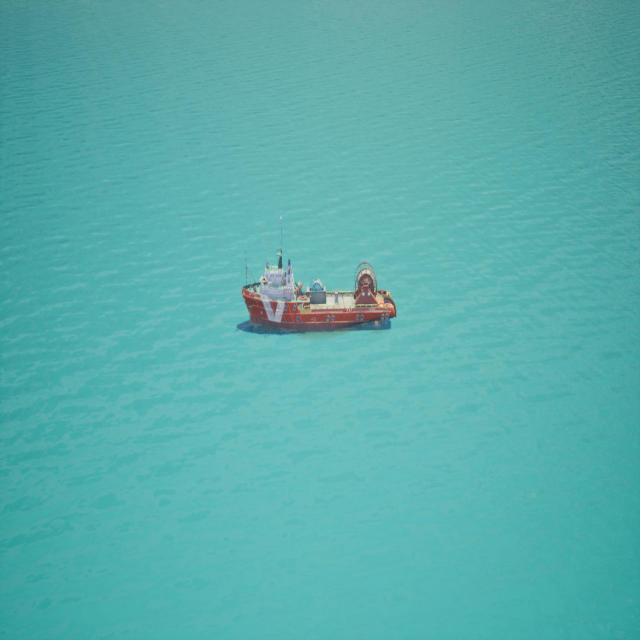tug boat: (239, 221, 399, 339)
